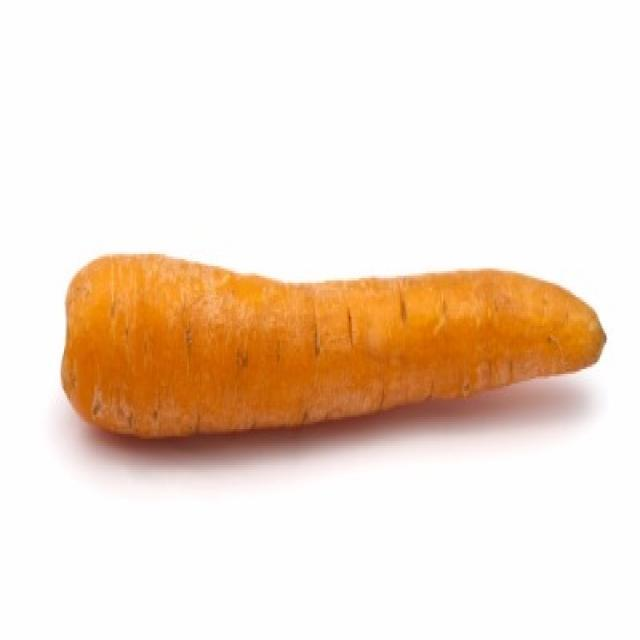Carrot: (64, 252, 612, 435)
